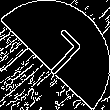L_SW: (27, 26, 83, 84)
